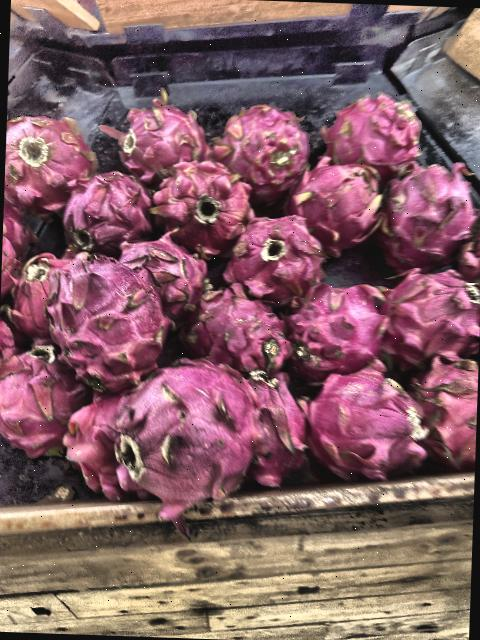buah-naga-matang: (103, 358, 258, 482), (32, 258, 164, 378), (300, 372, 430, 476), (0, 329, 93, 444), (146, 156, 258, 249), (385, 164, 478, 274), (286, 158, 390, 255), (386, 258, 480, 364), (184, 288, 299, 372), (206, 108, 314, 194), (401, 354, 479, 470), (103, 94, 200, 182), (316, 100, 434, 168), (290, 276, 392, 353), (4, 115, 91, 203), (120, 238, 215, 312), (226, 219, 323, 291), (58, 173, 150, 244), (4, 250, 66, 328)
